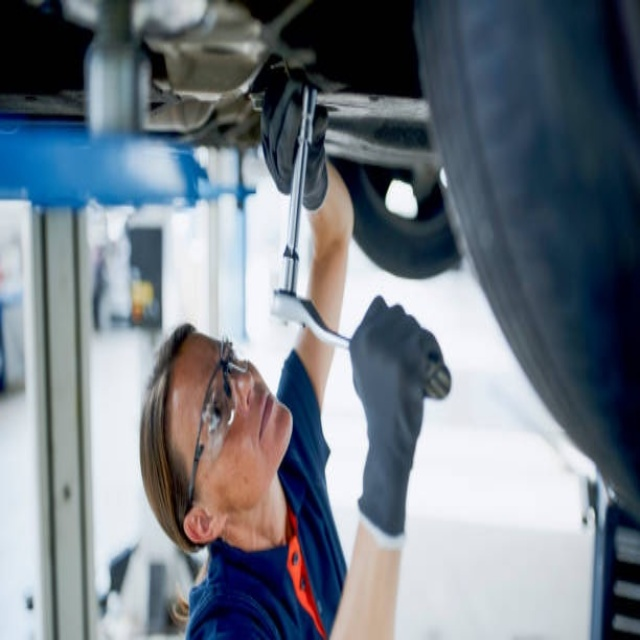Gafas: (187, 336, 244, 513)
Guantes: (349, 293, 450, 543), (259, 69, 329, 208)
Sin_mascara: (250, 367, 294, 465)
